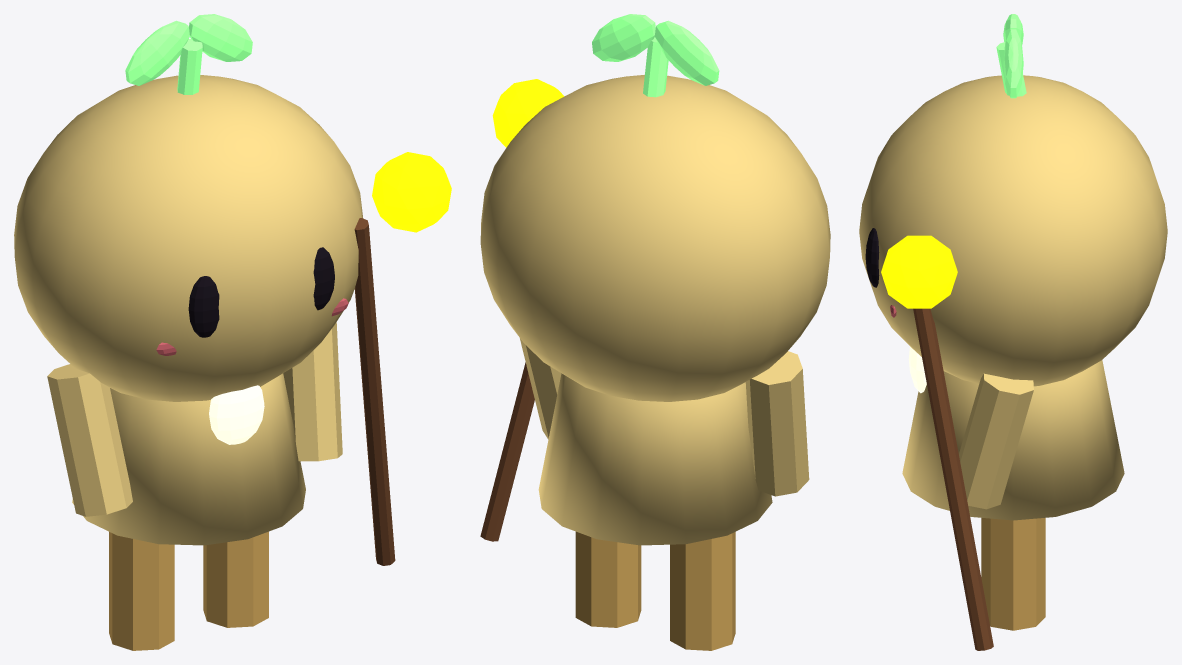
The model's file is maisha.glb.
The picture shows the model from 3 angles, left to right: view 1: azimuth 30°, elevation 25°; view 2: azimuth 150°, elevation 25°; view 3: azimuth 270°, elevation 25°; orthographic projection. The views are drawn at different scales.
Parts seen in each view (by area): view 1: Maisha_Cabeza, Maisha_Cuerpo, Maisha_Brazo_I, Maisha_Pierna_I, Cetro_Vara, Maisha_Brazo_D, Maisha_Pierna_D, Cetro_Gema, Maisha_Corazon_Asili, Maisha_Hoja_I, Maisha_Hoja_D, Maisha_Ojo_I (+2 smaller); view 2: Maisha_Cabeza, Maisha_Cuerpo, Maisha_Brazo_I, Maisha_Pierna_I, Maisha_Pierna_D, Cetro_Vara, Cetro_Gema, Maisha_Hoja_I, Maisha_Hoja_D, Maisha_Brazo_D, Maisha_Tallo; view 3: Maisha_Cabeza, Maisha_Cuerpo, Maisha_Pierna_D, Cetro_Vara, Maisha_Brazo_D, Cetro_Gema, Maisha_Hoja_D, Maisha_Ojo_D, Maisha_Corazon_Asili.
Boxes of the visible parts, bbox=[...] form: Maisha_Cabeza: bbox=[14, 75, 363, 401]; Maisha_Cuerpo: bbox=[72, 373, 305, 545]; Maisha_Brazo_I: bbox=[47, 364, 132, 516]; Maisha_Pierna_I: bbox=[109, 532, 174, 650]; Cetro_Vara: bbox=[354, 218, 395, 565]; Maisha_Brazo_D: bbox=[283, 322, 342, 461]; Maisha_Pierna_D: bbox=[203, 531, 268, 627]; Cetro_Gema: bbox=[372, 152, 451, 232]; Maisha_Corazon_Asili: bbox=[209, 385, 264, 444]; Maisha_Hoja_I: bbox=[125, 20, 189, 85]; Maisha_Hoja_D: bbox=[189, 14, 252, 61]; Maisha_Ojo_I: bbox=[188, 276, 219, 337]; Maisha_Cabeza: bbox=[480, 74, 830, 401]; Maisha_Cuerpo: bbox=[538, 373, 772, 545]; Maisha_Brazo_I: bbox=[745, 351, 809, 496]; Maisha_Pierna_I: bbox=[670, 532, 735, 650]; Maisha_Pierna_D: bbox=[575, 531, 641, 627]; Cetro_Vara: bbox=[480, 362, 534, 541]; Cetro_Gema: bbox=[492, 79, 564, 147]; Maisha_Hoja_I: bbox=[654, 20, 719, 85]; Maisha_Hoja_D: bbox=[592, 14, 655, 61]; Maisha_Brazo_D: bbox=[520, 338, 561, 439]; Maisha_Tallo: bbox=[643, 37, 668, 97]; Maisha_Cabeza: bbox=[859, 75, 1167, 386]; Maisha_Cuerpo: bbox=[902, 360, 1124, 520]; Maisha_Pierna_D: bbox=[981, 518, 1045, 630]; Cetro_Vara: bbox=[913, 308, 993, 650]; Maisha_Brazo_D: bbox=[959, 373, 1033, 509]; Cetro_Gema: bbox=[881, 235, 957, 308]; Maisha_Hoja_D: bbox=[1003, 29, 1023, 98]; Maisha_Ojo_D: bbox=[865, 228, 879, 287]; Maisha_Corazon_Asili: bbox=[908, 346, 926, 393].
Bounding box in the file's own units: 0.9246 × 1.48 × 0.722.
